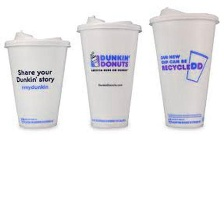paper_cup: (144, 3, 224, 131), (71, 10, 144, 131), (0, 25, 72, 131)
